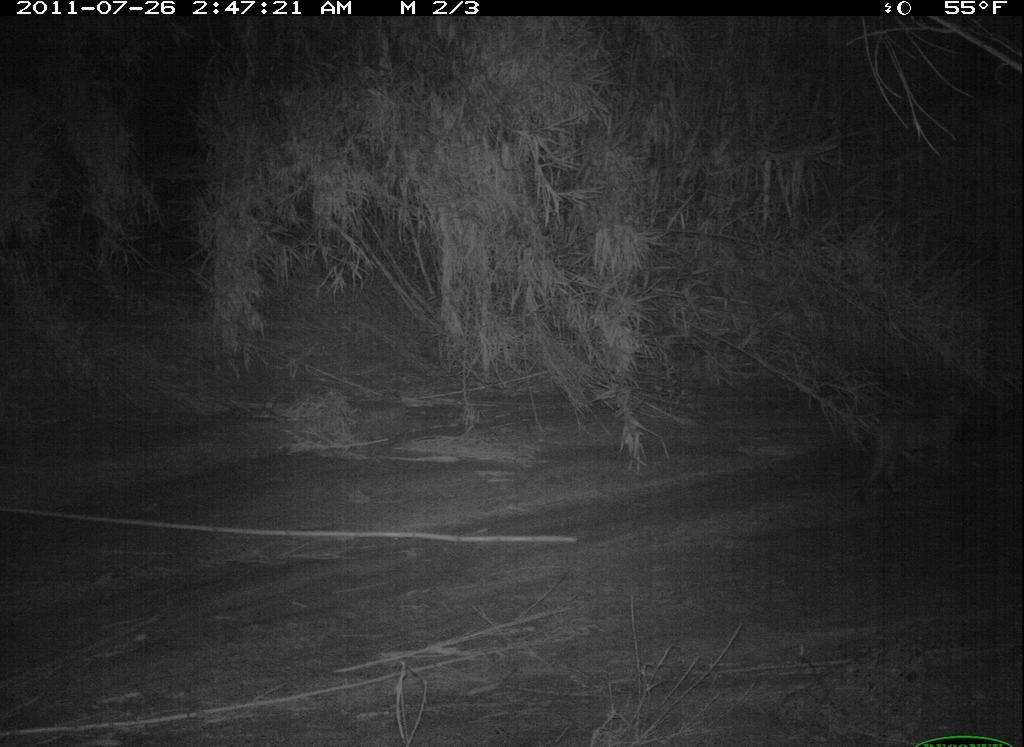bobcat: (845, 382, 980, 509)
